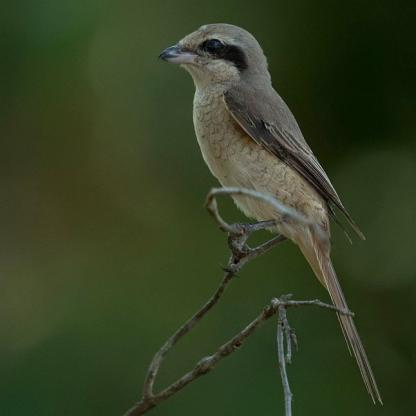Burung: (155, 22, 386, 404)
